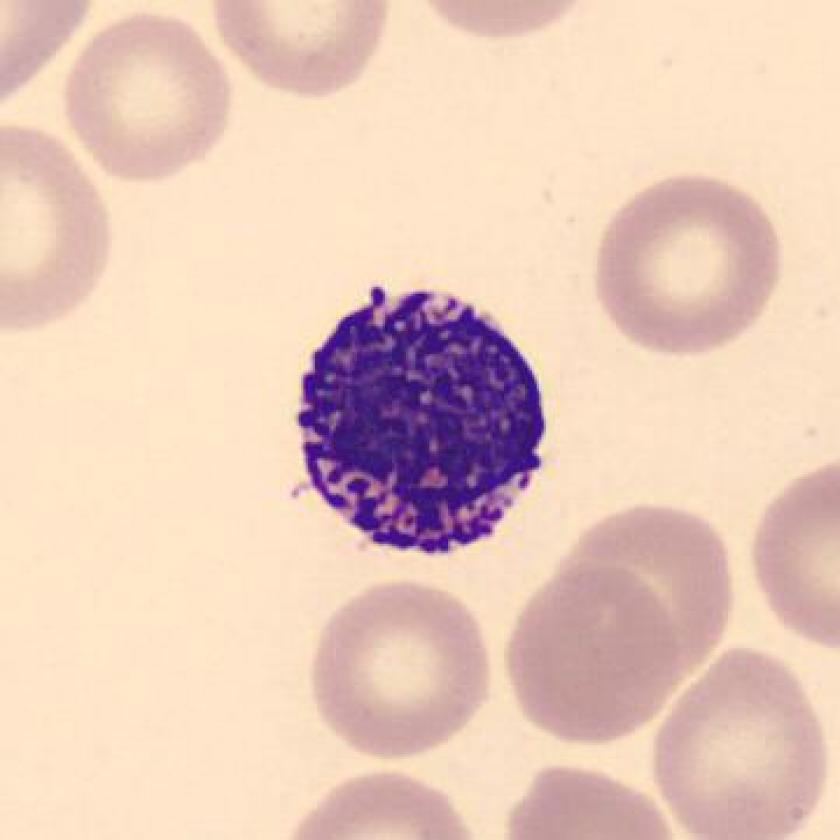basophil: (288, 274, 556, 568)
